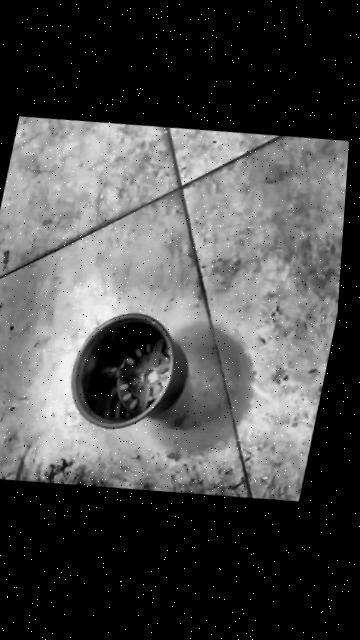pot: (61, 301, 199, 439)
